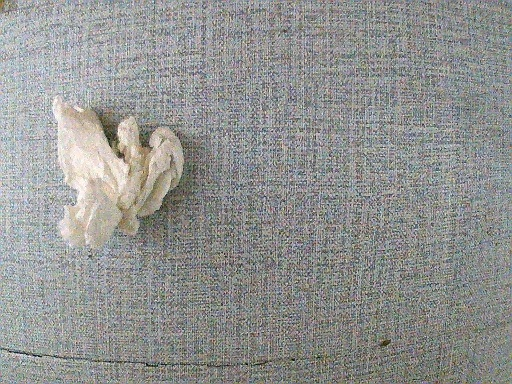paper: (46, 86, 189, 262)
